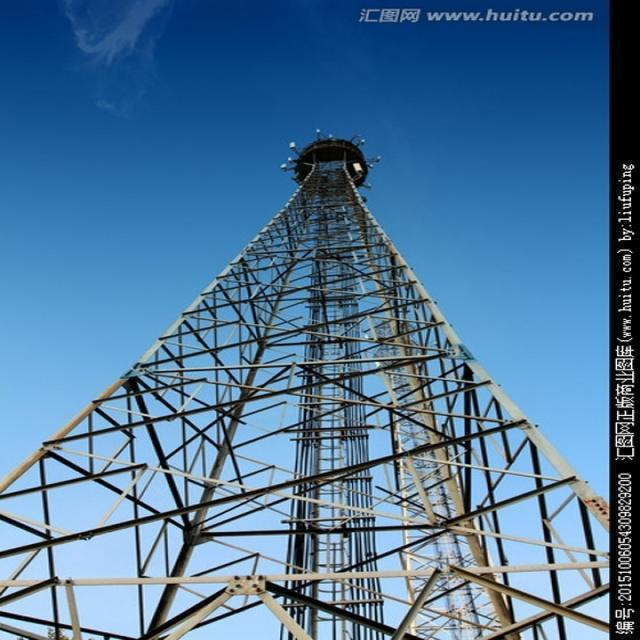non-critical vegetation: (106, 134, 538, 604)
